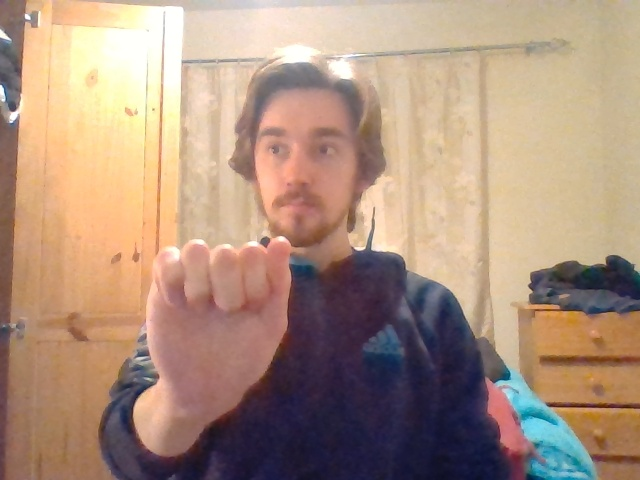your: (148, 236, 291, 383)
